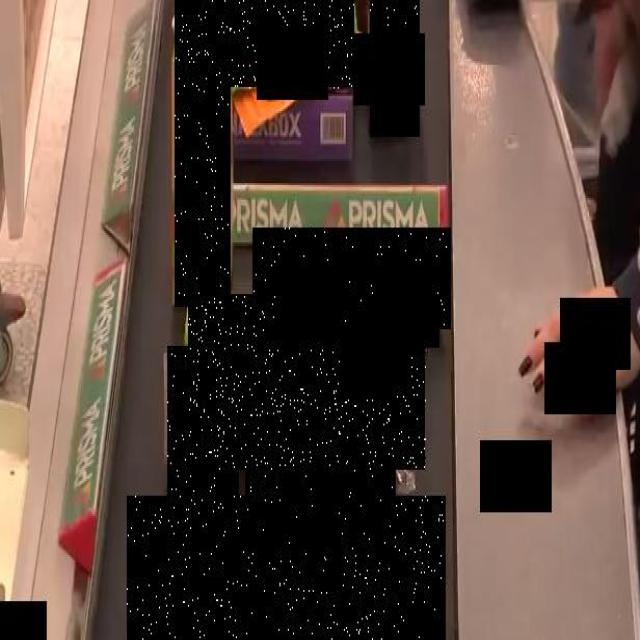beverage: (174, 0, 230, 307), (370, 0, 420, 137)
food-box: (126, 495, 445, 640), (189, 294, 427, 470), (245, 394, 396, 555), (276, 264, 440, 352)
fruit: (252, 228, 451, 329), (168, 348, 240, 520)
vegetable: (230, 0, 354, 89)
